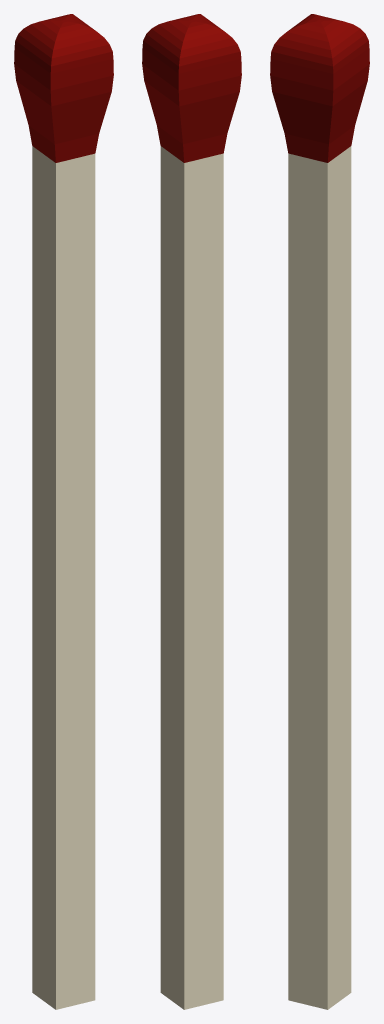
The model's file is allumette.fbx.
3 renders of one model, left to right at view 1: azimuth 30°, elevation 25°; view 2: azimuth 210°, elevation 25°; view 3: azimuth 330°, elevation 25°, orthographic.
Visible parts, largest first — view 1: Cube; view 2: Cube; view 3: Cube.
Part boxes in pixels (box(x1,y1,x2,y2)): Cube: box(14, 14, 113, 1009); Cube: box(142, 14, 241, 1009); Cube: box(270, 14, 369, 1009).
Size of the model in its own units: 10.15 by 150 by 10.19.
